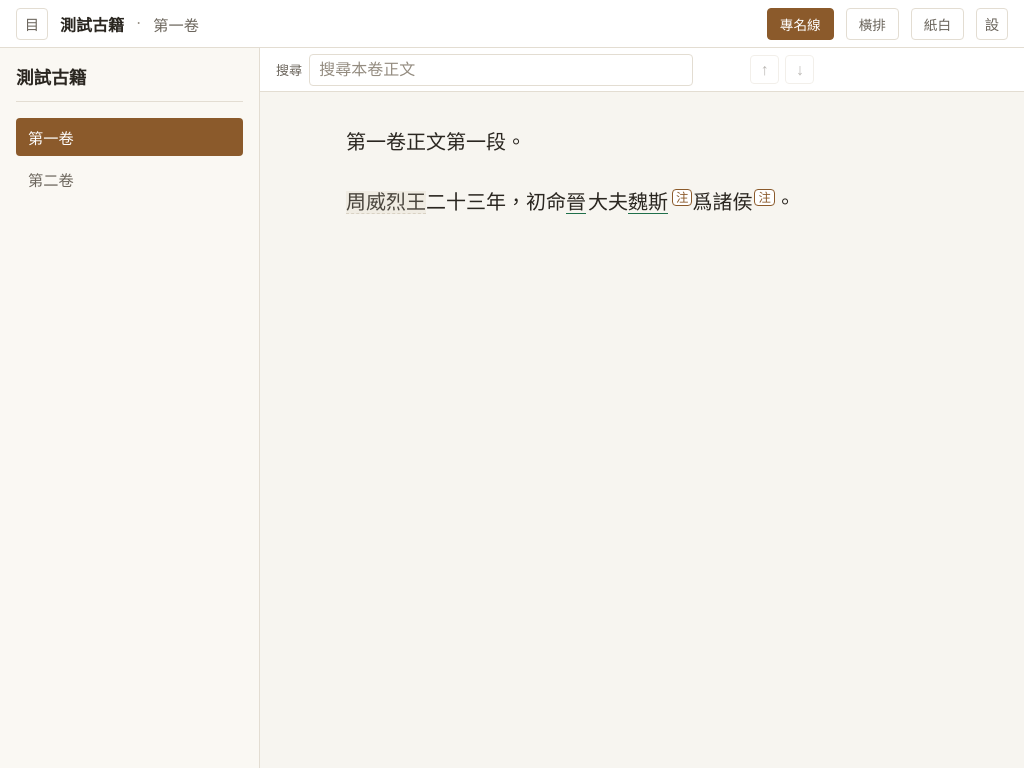
Test: 古注 popover › closes via its close button
expect the text "第一卷正文第一段。" is shown: met, box [346,131,526,153]
What coordinates should you click on to do the following:
click the button "周威烈王"
I would click on:
 (386, 203)
Its box is [346,191,426,214].
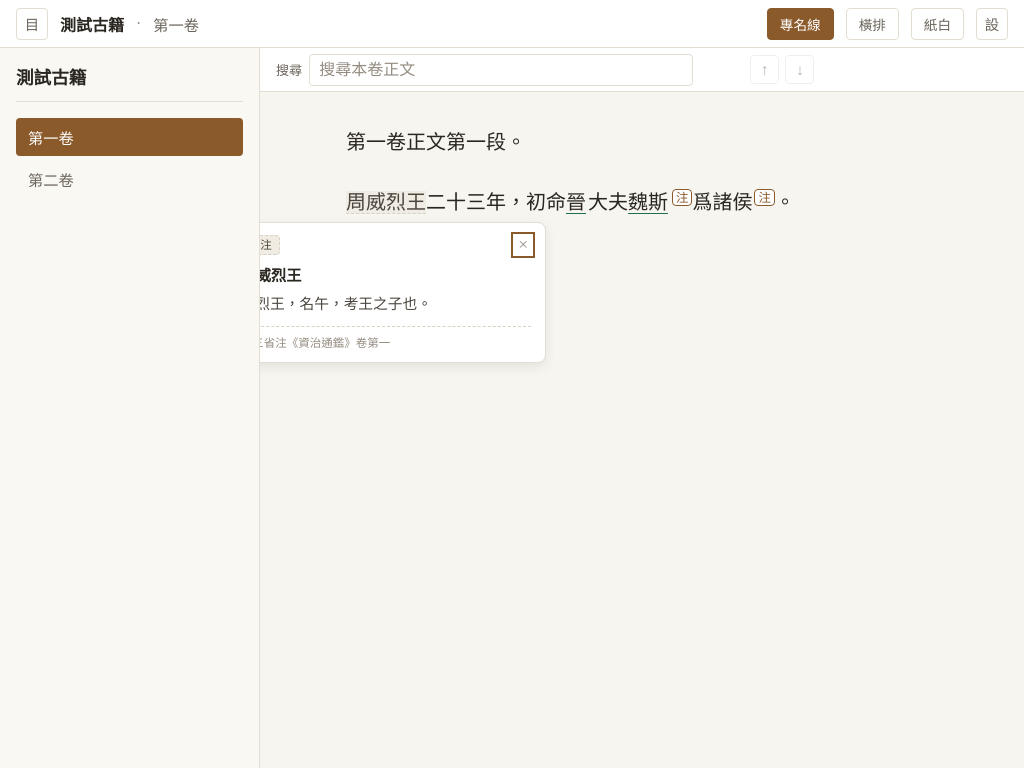
What coordinates should you click on to do the following:
click the button named "關閉古注"
I would click on:
 (523, 245)
Its box is [515,236,531,254].
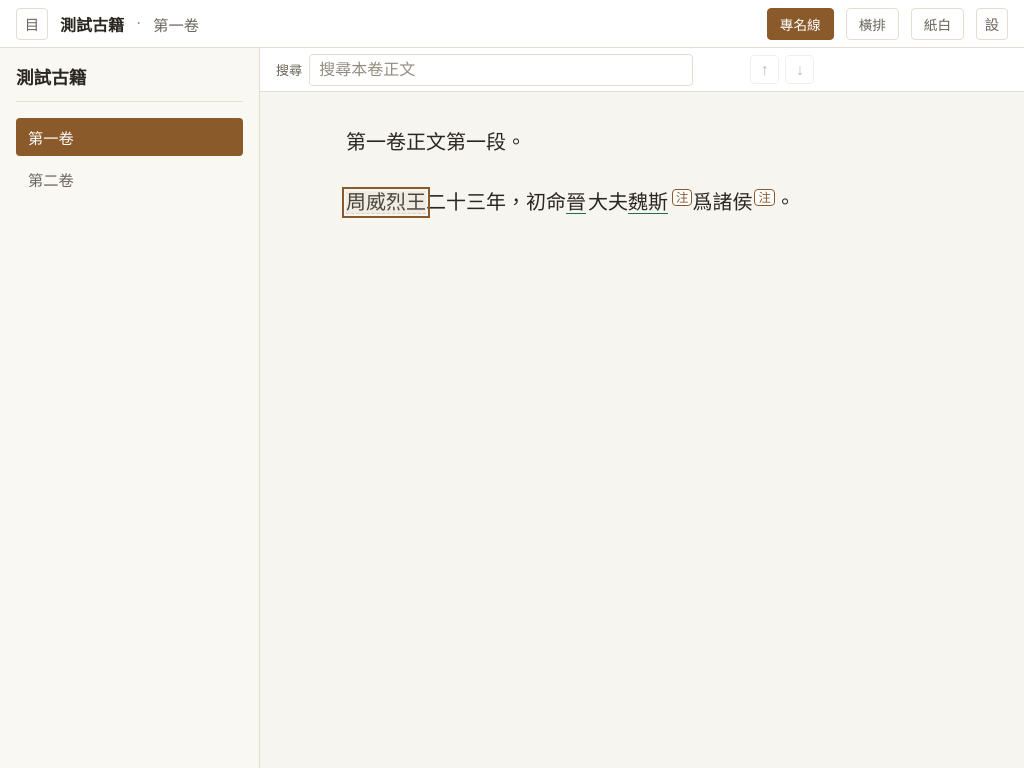
expect the text "古注" is gone: met
